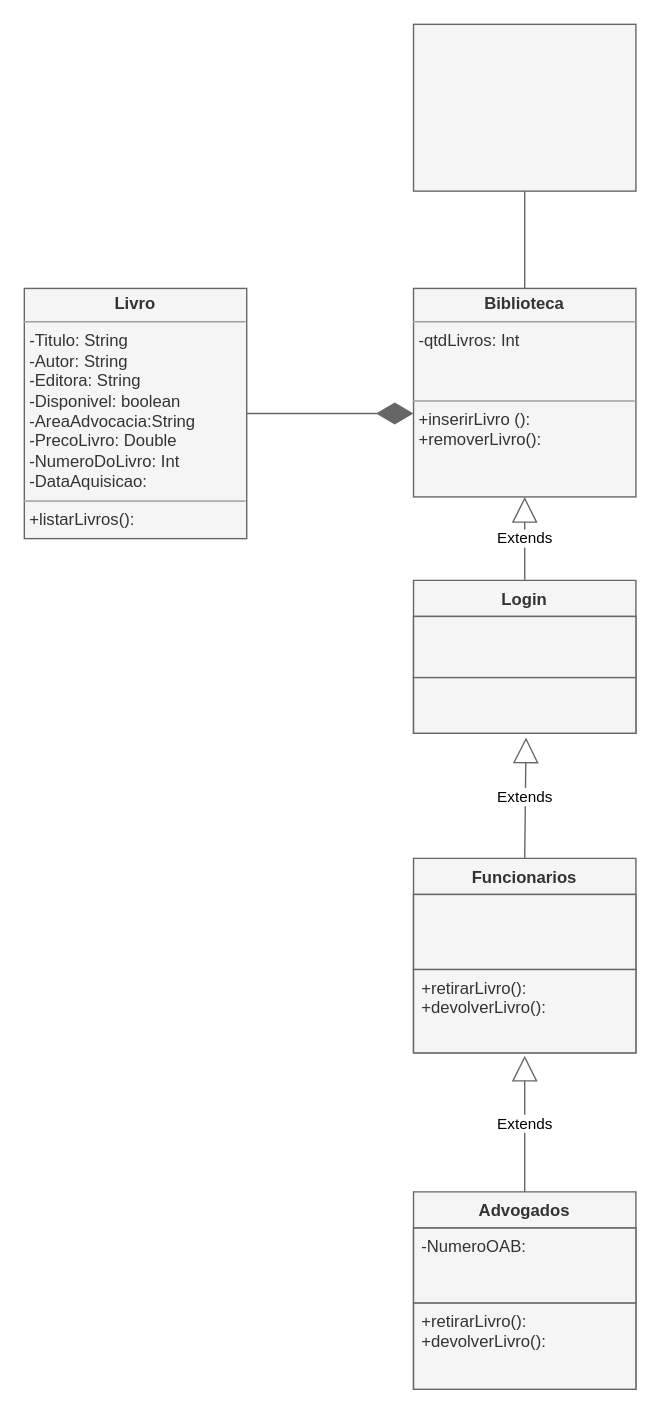
Some shapes in this 660 by 1418 pixel diagram are drawn without their labels. Each missing label, with the centre of its shape:
"+cadastrarAdvogado(): +cadastrarFuncionario():" belongs at (524,704).
"-Matricula" belongs at (524,931).
"-Matricula: Int -Senha: Int" belongs at (524,646).
"Coleção de Livros -donoLivro: String -qtdLivrosEmpr: Int +EmprestarLivro()" belongs at (524,107).
